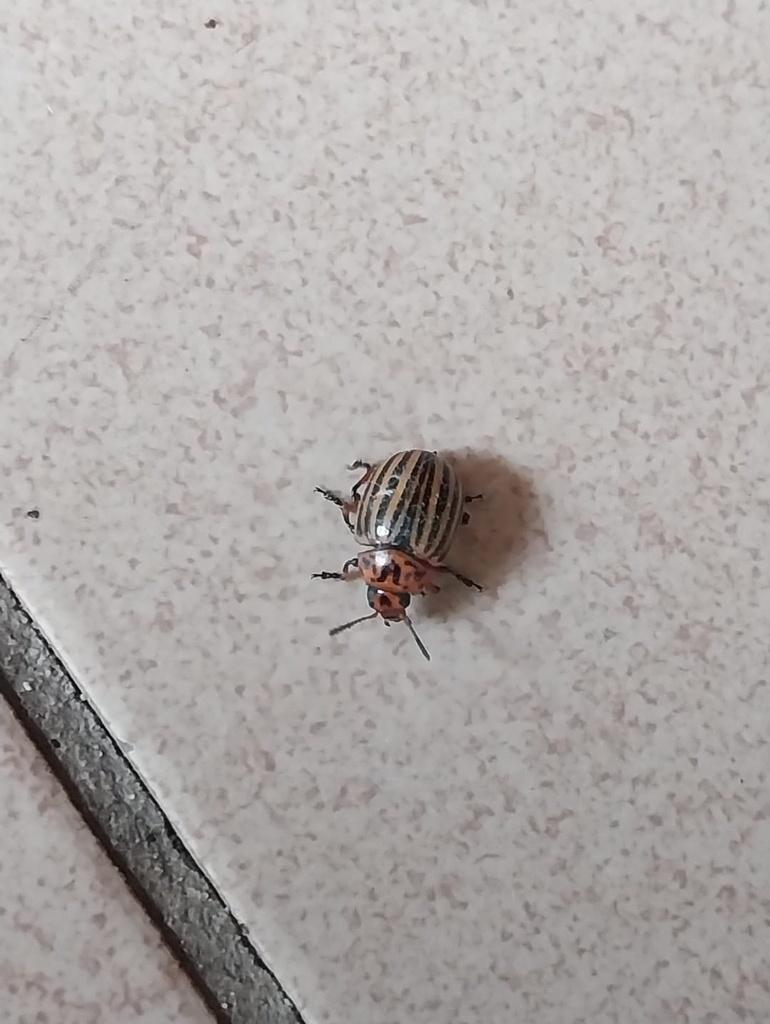potato_beetle: (276, 400, 506, 694)
